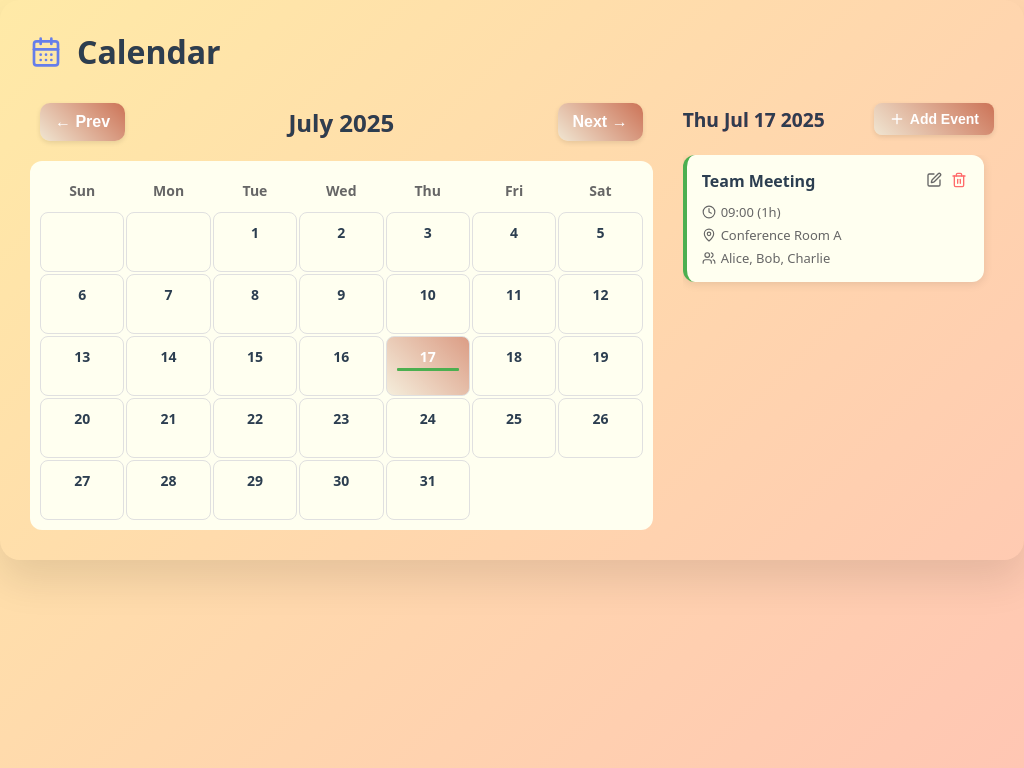
Test: Calendar Component › navigates months with Prev and Next buttons
Click the button "Next →": (600, 122) [558, 103, 643, 141]
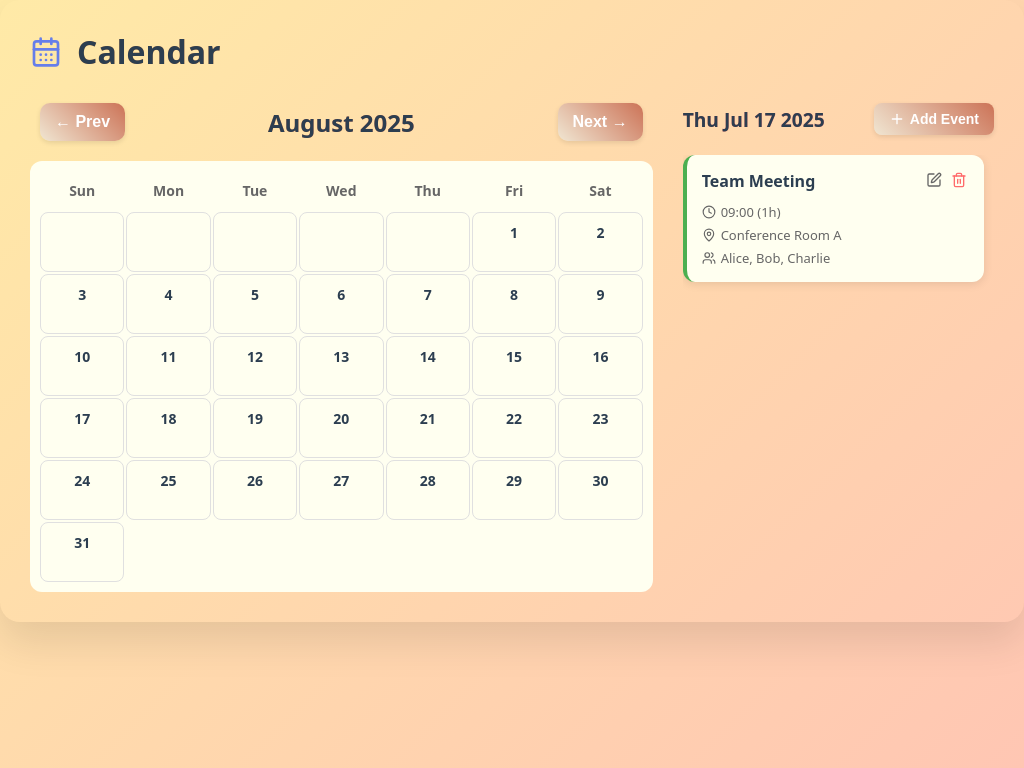
Expected: the heading "August 2025" is shown, [268, 106, 415, 138]
Click the button "← Prev": (83, 122) [40, 103, 125, 141]
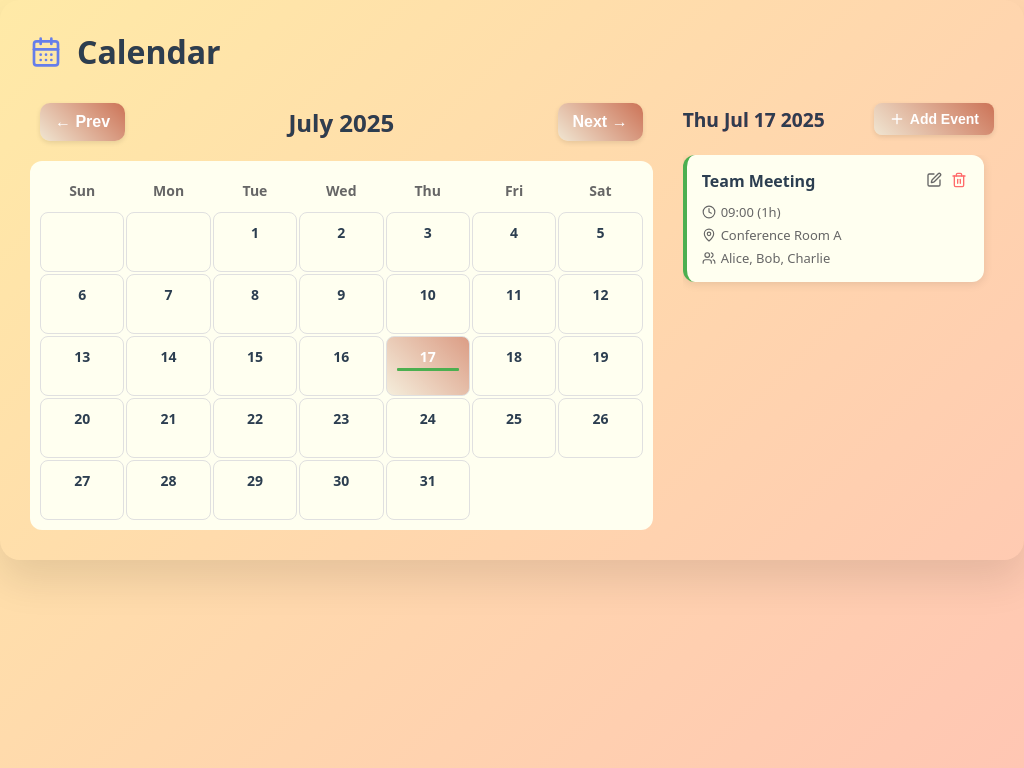
Click the button "← Prev": (83, 122) [40, 103, 125, 141]
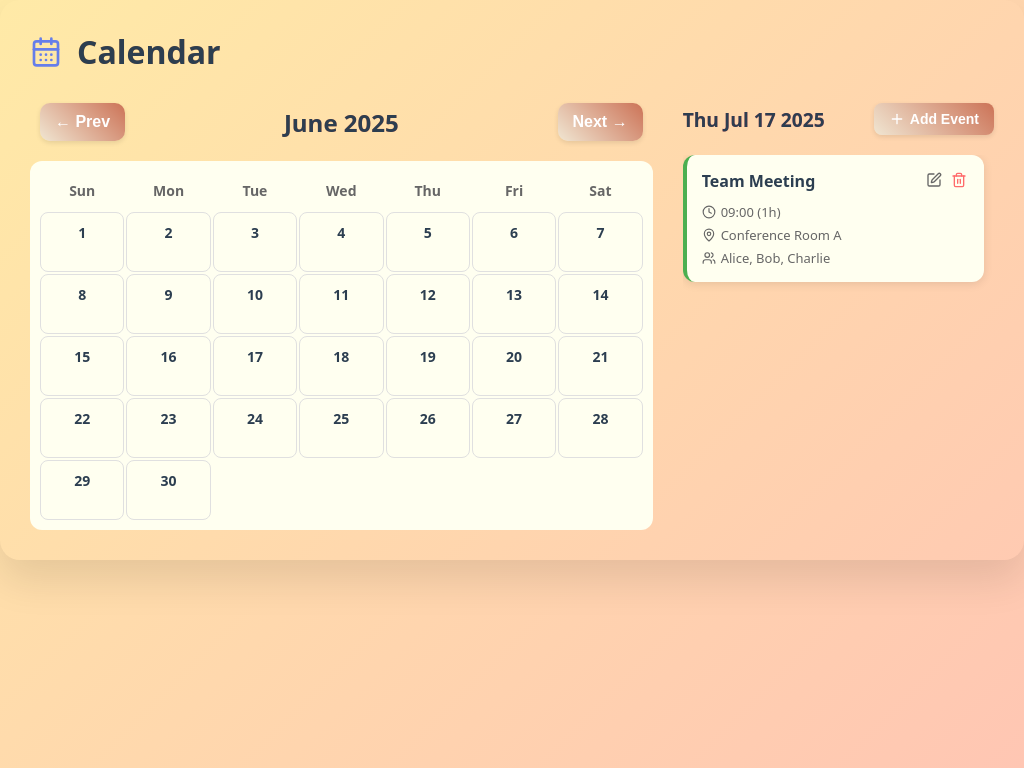
Expected: the heading "June 2025" is shown, [284, 106, 399, 138]
